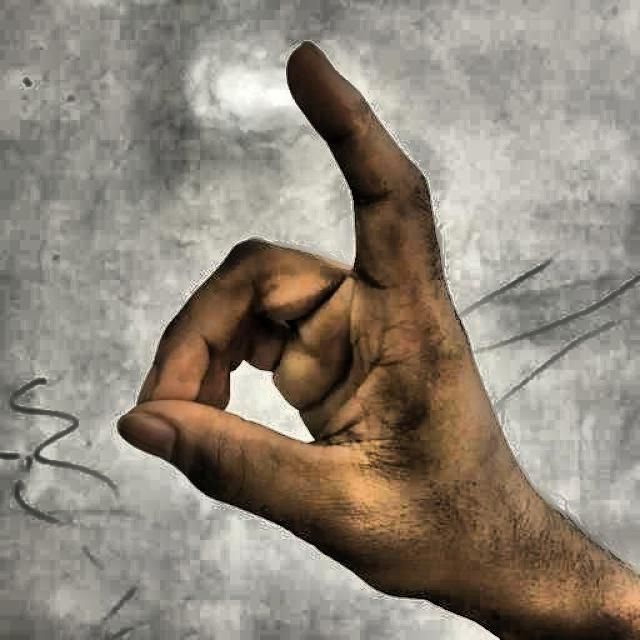Dha: (102, 29, 562, 640)
